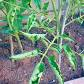Diseased_Leaves: (25, 32, 46, 41), (14, 54, 33, 59)
